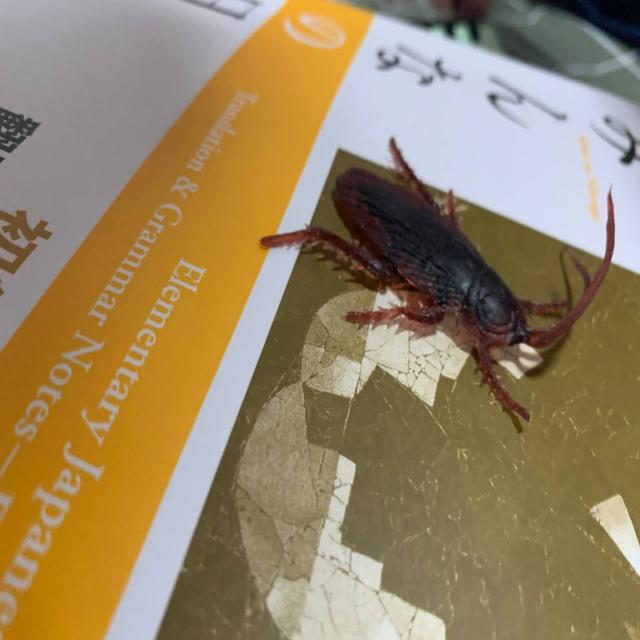Cockroach: (252, 120, 624, 441)
